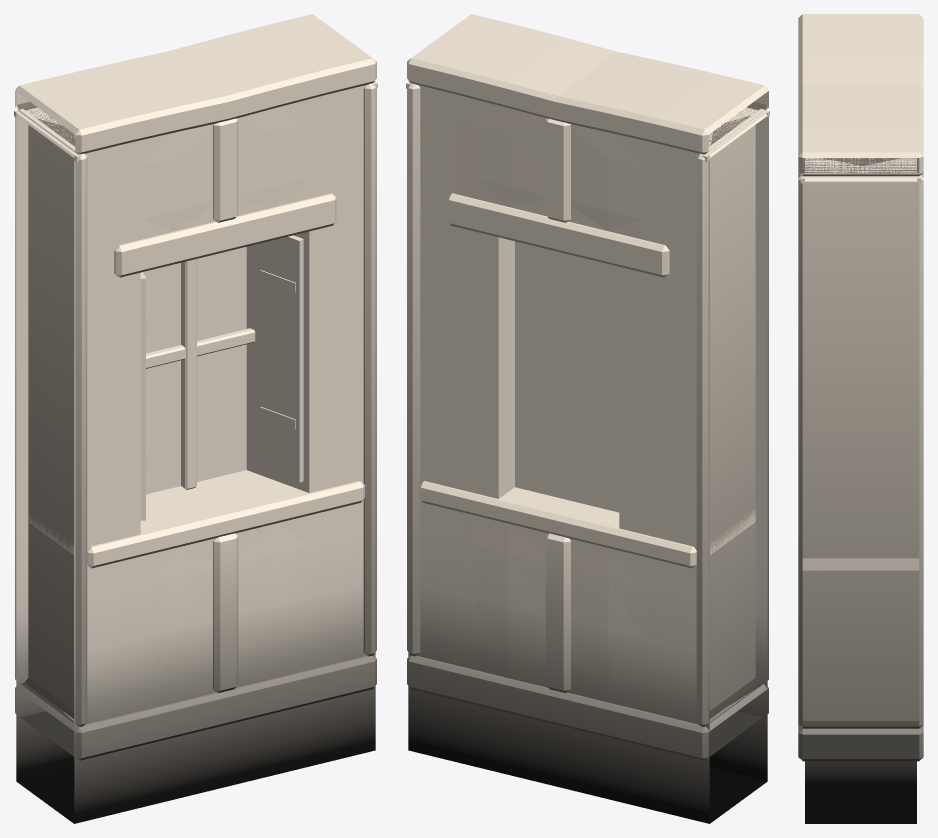
Rendered from SM_VKI_Wall_Timber_Window_150_Full.fbx.
The picture shows the model from 3 angles, left to right: view 1: azimuth 30°, elevation 25°; view 2: azimuth 150°, elevation 25°; view 3: azimuth 270°, elevation 25°; orthographic projection. The views are drawn at different scales.
Parts seen in each view (by area): view 1: SM_VKI_Wall_Timber_Window_150_Full.001; view 2: SM_VKI_Wall_Timber_Window_150_Full.001; view 3: SM_VKI_Wall_Timber_Window_150_Full.001.
Boxes of the visible parts, x1,y1,x2,y2 form: SM_VKI_Wall_Timber_Window_150_Full.001: (14, 14, 377, 823); SM_VKI_Wall_Timber_Window_150_Full.001: (406, 14, 769, 823); SM_VKI_Wall_Timber_Window_150_Full.001: (798, 14, 923, 823).
Size of the model in its own units: 1.5 by 3.3 by 0.56.
